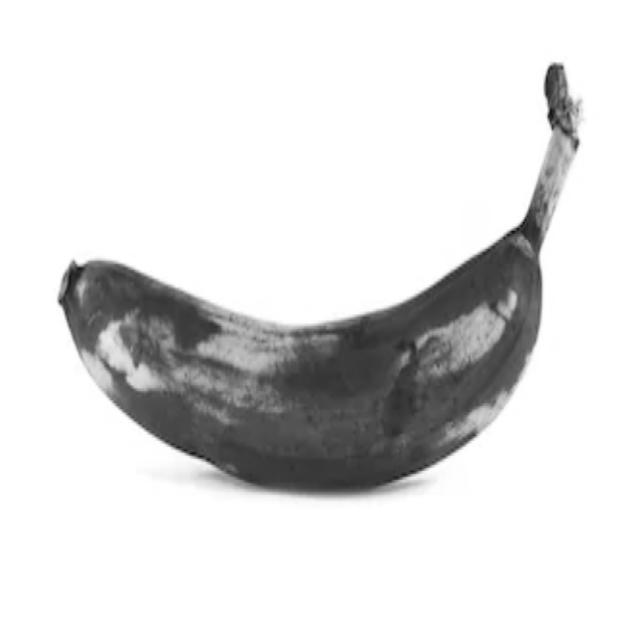Rotten: (47, 41, 596, 527)
